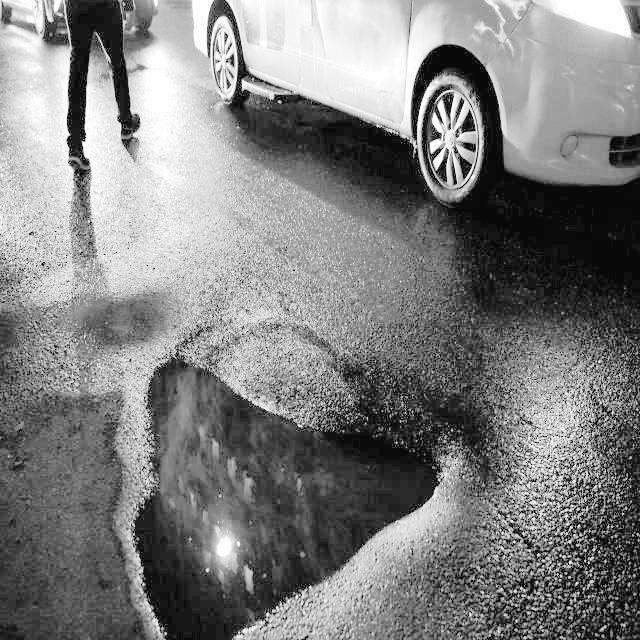Car: (191, 0, 640, 205)
Person: (61, 0, 142, 171)
Pothole: (120, 322, 451, 637)
